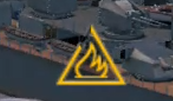1fire: (51, 55, 129, 88)
